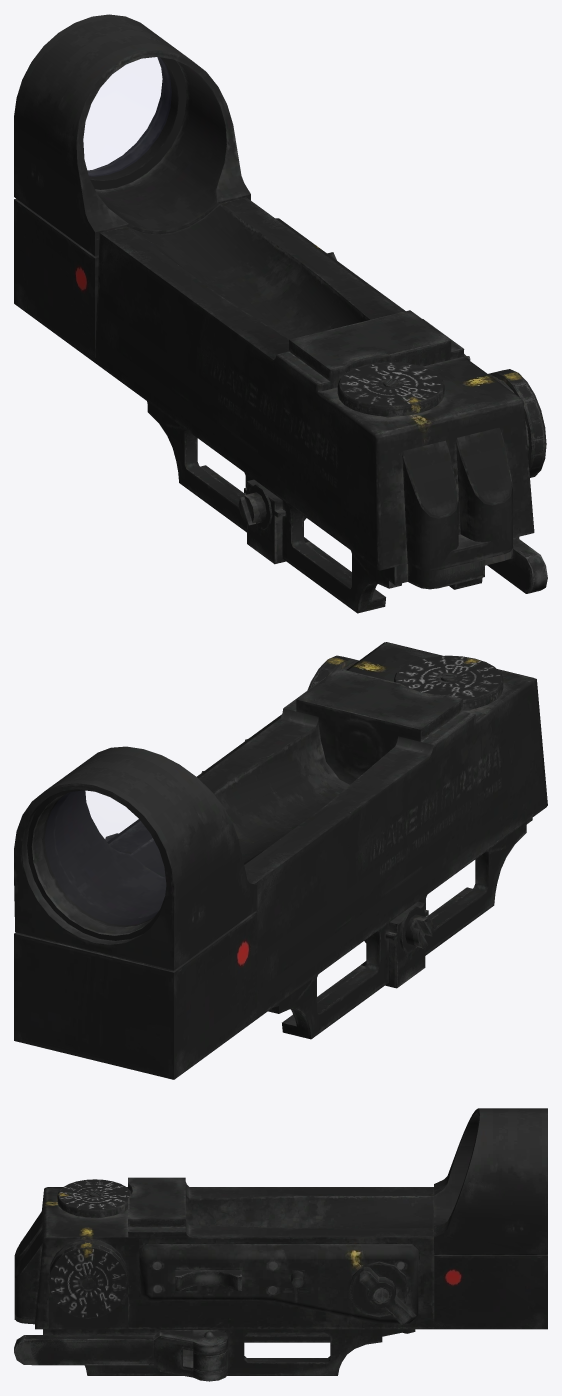
File: Red-Dot-Sight-RUSSIAN.glb
3 views of the same model, one above another, from view 1: azimuth 30°, elevation 25°; view 2: azimuth 150°, elevation 25°; view 3: azimuth 270°, elevation 25° (orthographic). The views are drawn at different scales.
Visible parts, largest first — view 1: Red Dot Sight RUSSIAN; view 2: Red Dot Sight RUSSIAN; view 3: Red Dot Sight RUSSIAN.
Part boxes in pixels (x1,y1,x2,y2): Red Dot Sight RUSSIAN: (14,14,547,613); Red Dot Sight RUSSIAN: (14,642,547,1079); Red Dot Sight RUSSIAN: (14,1108,547,1381).
Size of the model in its own units: 0.0454 by 0.075 by 0.1494.
Materials: 2 (1 with a texture image).
